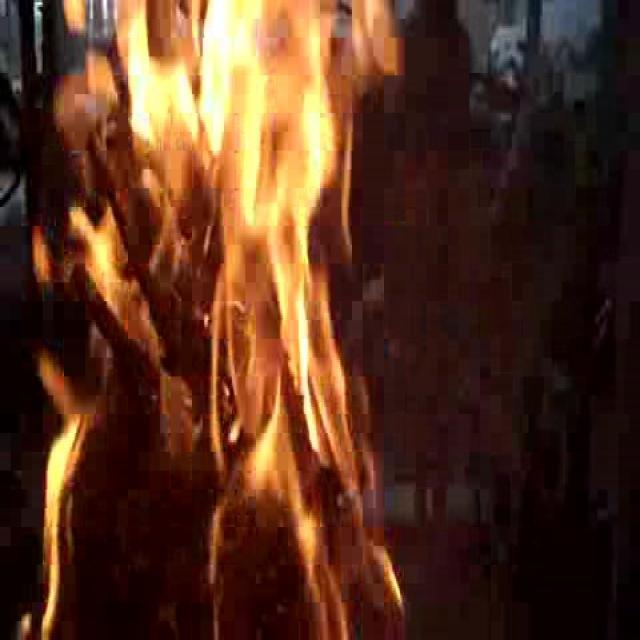Fire: (32, 5, 376, 620)
